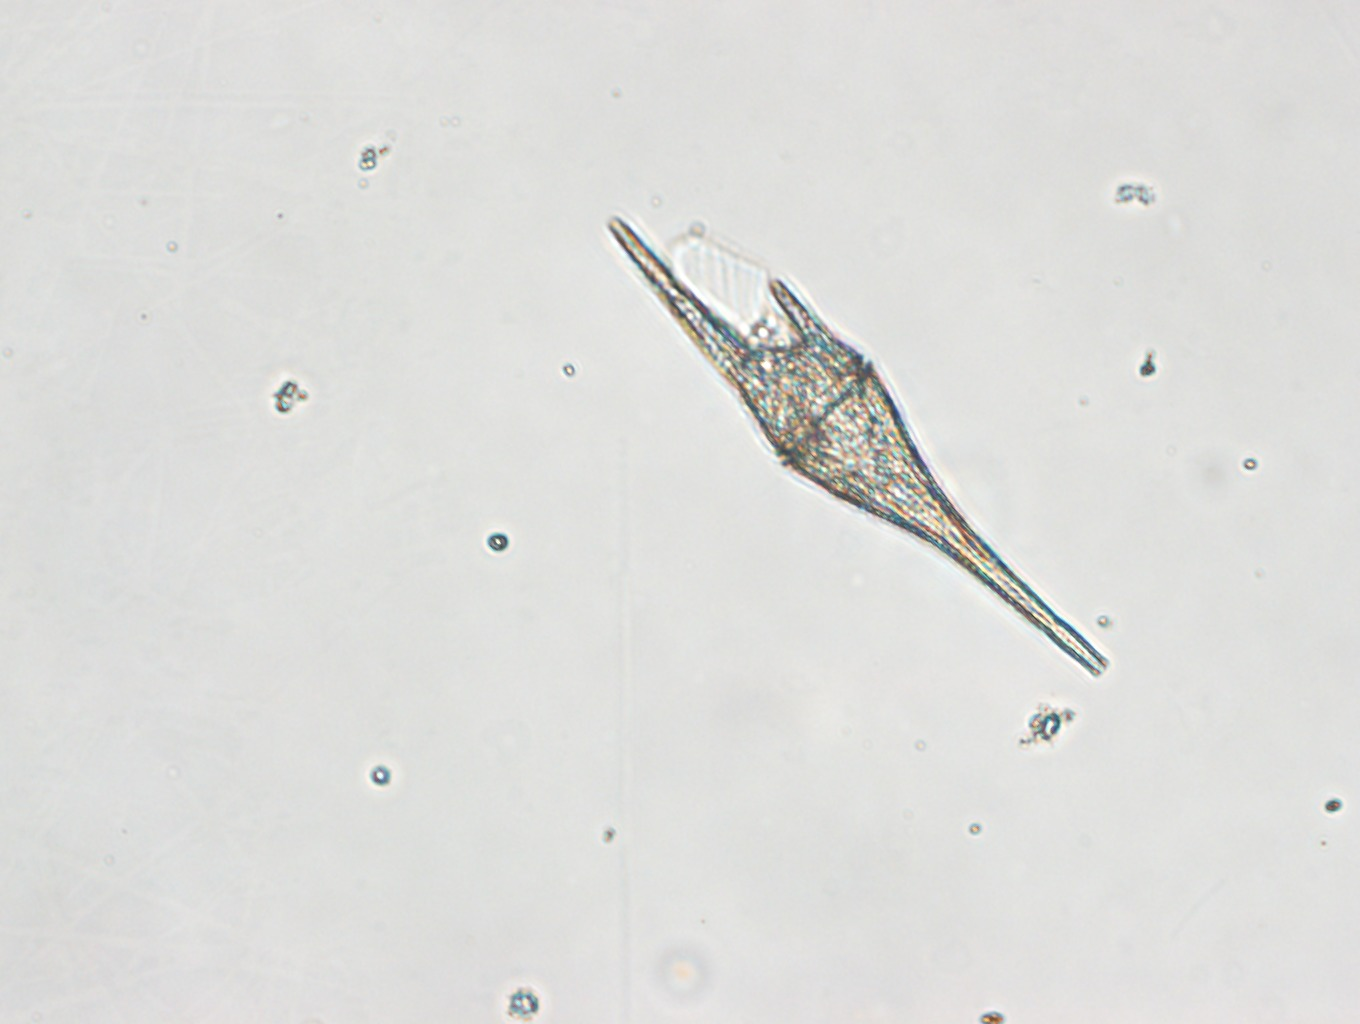ceratium furca: (602, 210, 1111, 677)
